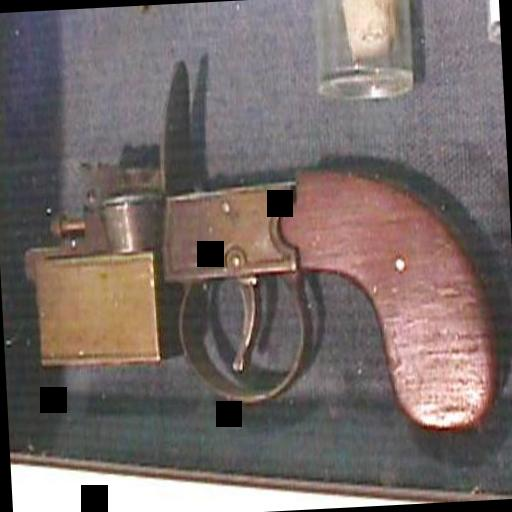Handgun: (10, 148, 494, 454)
